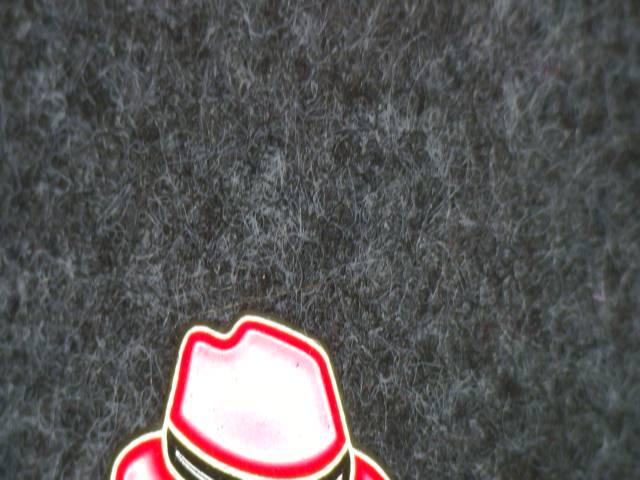Red-Hat: (92, 292, 424, 480)
